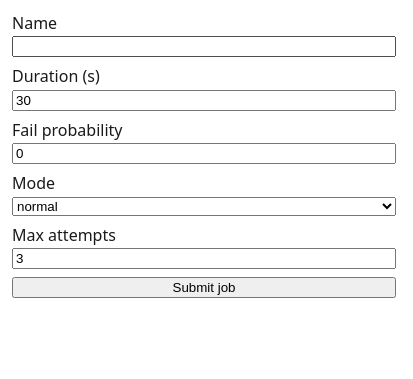
Scenario: SubmitJobForm client validation (AC-14) › shows all messages and focuses the first invalid field
This screenshot has width=413, height=379.
Replace the text in the field labelled "Duration (s)" with "0" at {"x": 204, "y": 100}, box top-left (12, 90), bottom-right (396, 111)
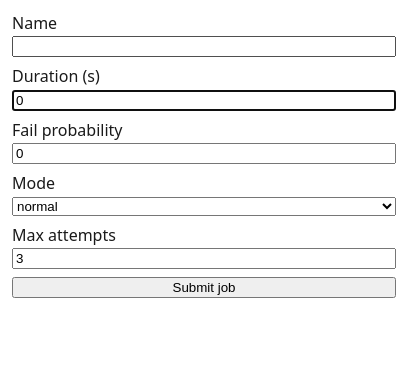
Replace the text in the field labelled "Max attempts" with "11" at {"x": 204, "y": 258}, box top-left (12, 248), bottom-right (396, 269)
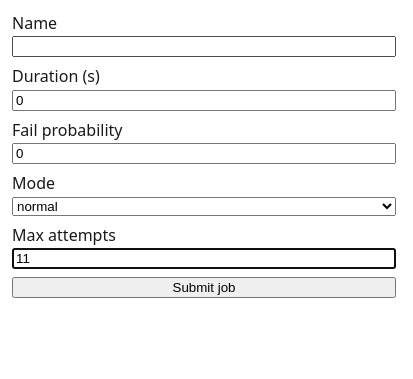
Click the button "Submit job" at {"x": 204, "y": 288}, box top-left (12, 277), bottom-right (396, 298)
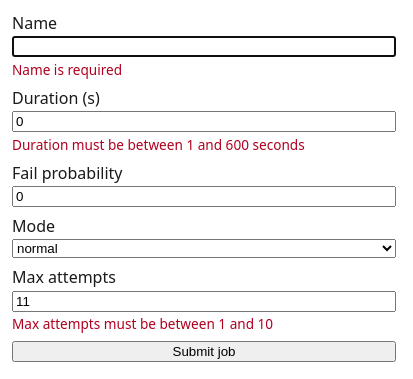
Expected: the text "Name is required" is shown, top-left (12, 60), bottom-right (122, 79)
Expected: the text "Duration must be between 1 and 600 seconds" is shown, top-left (12, 135), bottom-right (305, 154)
Expected: the text "Max attempts must be between 1 and 10" is shown, top-left (12, 314), bottom-right (273, 333)
